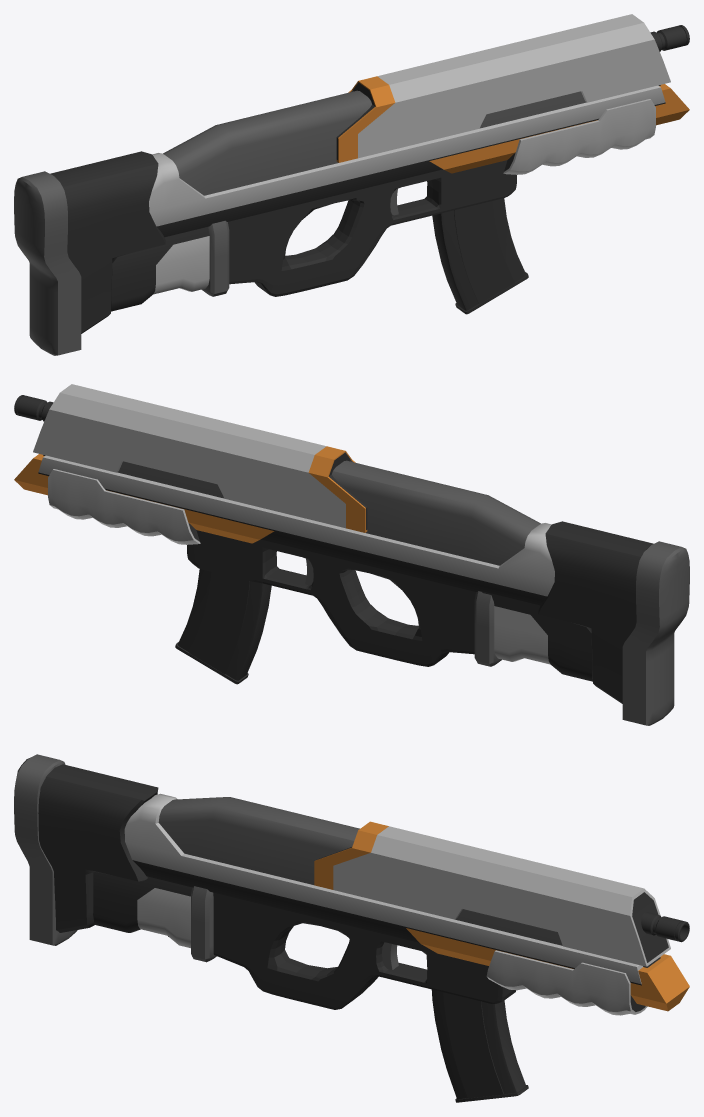
3 renders of one model, top to bottom at view 1: azimuth 30°, elevation 25°; view 2: azimuth 150°, elevation 25°; view 3: azimuth 330°, elevation 25°, orthographic.
Visible parts, largest first — view 1: AR_4, Magazine; view 2: AR_4, Magazine; view 3: AR_4, Magazine.
Boxes of the visible parts, left/top/right/bottom form: AR_4: left=14, top=14, right=689, bottom=355; Magazine: left=432, top=198, right=528, bottom=314; AR_4: left=14, top=384, right=689, bottom=725; Magazine: left=175, top=569, right=271, bottom=684; AR_4: left=14, top=754, right=689, bottom=1015; Magazine: left=431, top=989, right=528, bottom=1102.
Size of the model in its own units: 1.79 by 0.6476 by 0.1461.
